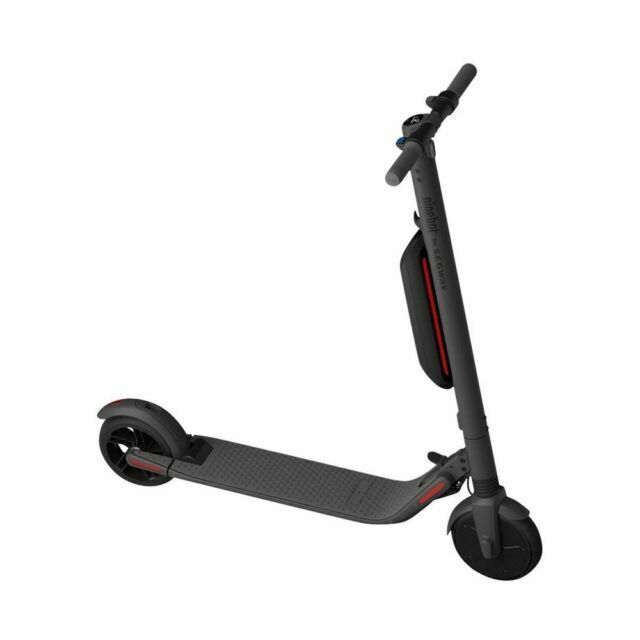scooter: (95, 61, 544, 583)
